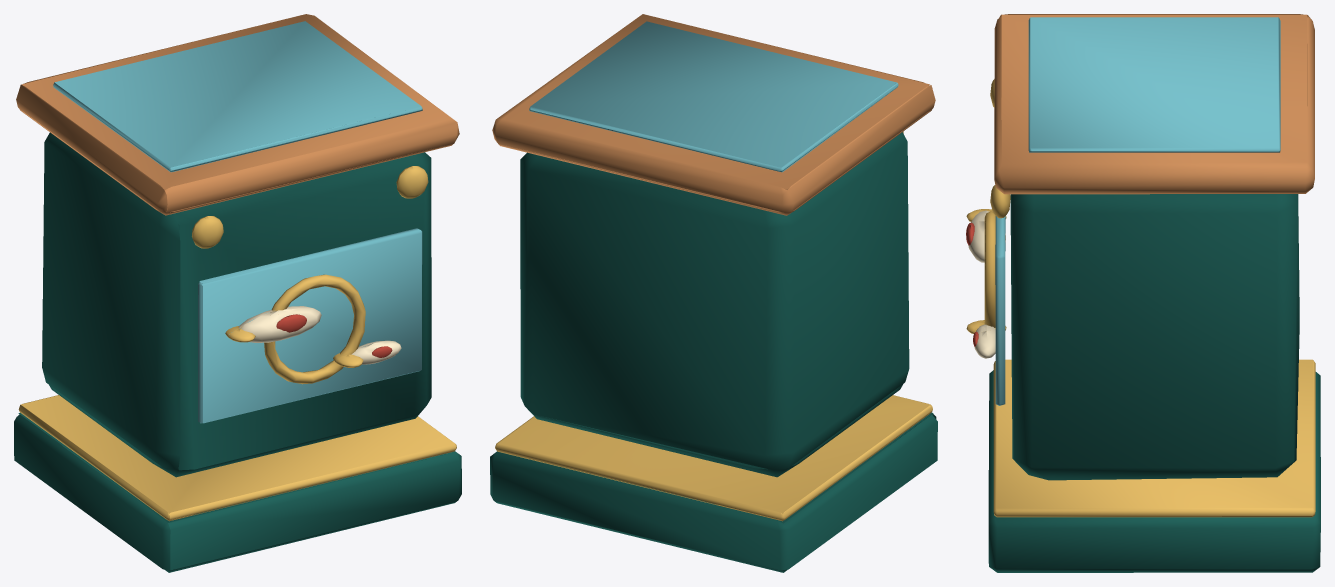
3 views of the same model, side by side, from view 1: azimuth 30°, elevation 25°; view 2: azimuth 150°, elevation 25°; view 3: azimuth 270°, elevation 25° (orthographic). The views are drawn at different scales.
Parts seen in each view (by area): view 1: Jade footing, Aquarium window, Brass welt, Boiler rim, Koi body, Koi tail, Koi patch; view 2: Jade footing, Aquarium window, Boiler rim, Brass welt; view 3: Jade footing, Aquarium window, Boiler rim, Brass welt, Koi body.
Part boxes in pixels (box(x1,y1,x2,y2)): Jade footing: box(14, 132, 461, 572); Aquarium window: box(53, 21, 422, 423); Brass welt: box(18, 166, 456, 521); Boiler rim: box(16, 14, 459, 215); Koi body: box(238, 306, 401, 364); Koi tail: box(225, 326, 363, 367); Koi patch: box(276, 314, 392, 357); Jade footing: box(490, 132, 937, 572); Aquarium window: box(529, 21, 898, 172); Boiler rim: box(492, 14, 935, 215); Brass welt: box(495, 131, 932, 521); Jade footing: box(988, 194, 1320, 572); Aquarium window: box(995, 17, 1280, 405); Boiler rim: box(994, 14, 1314, 194); Brass welt: box(984, 79, 1315, 517); Koi body: box(968, 210, 1005, 358).
Size of the model in its own units: 0.7974 by 0.9831 by 0.7604.
